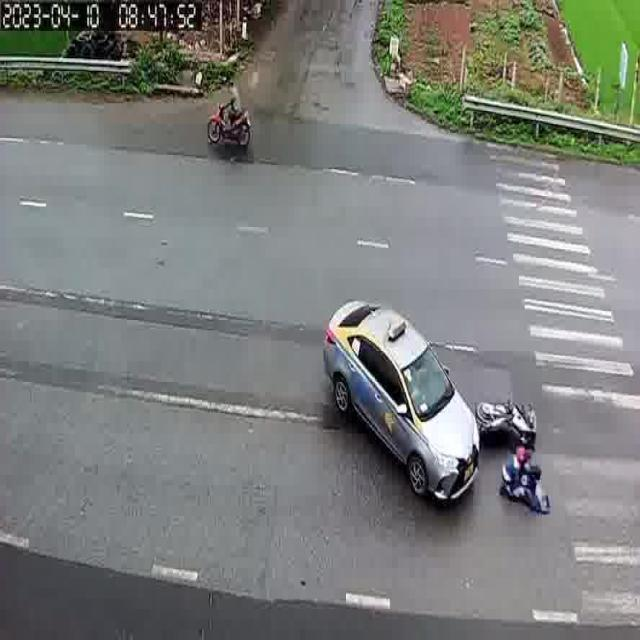multiple_accident: (320, 289, 556, 533)
normal: (190, 67, 284, 170)
